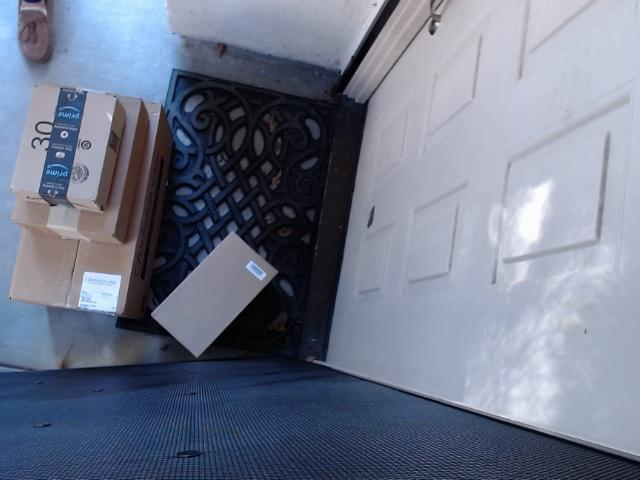box: (0, 70, 174, 329), (12, 85, 149, 254), (156, 225, 286, 353), (16, 83, 124, 218)
